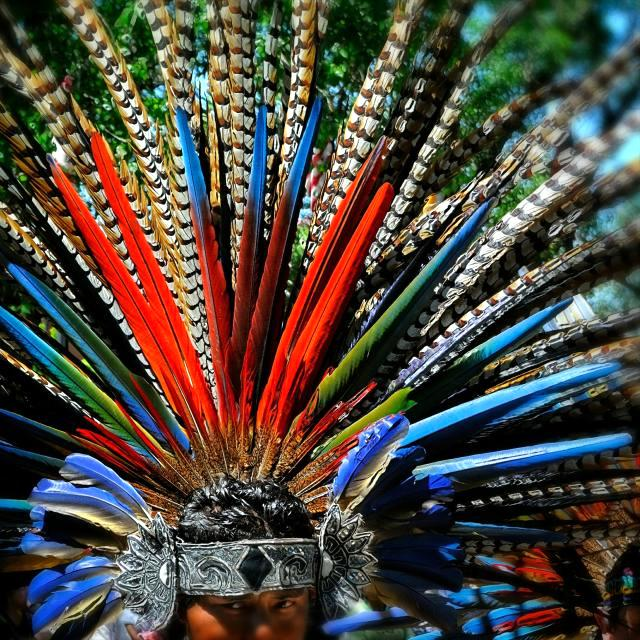no_hard_hat: (0, 0, 640, 640)
person: (180, 475, 325, 640)
